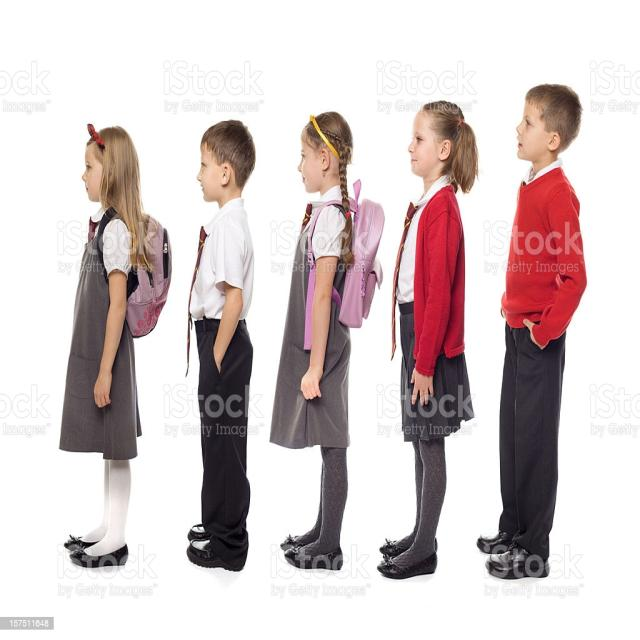child: (356, 92, 490, 577), (469, 87, 597, 582), (265, 108, 389, 577), (49, 112, 175, 573), (171, 112, 272, 573)
